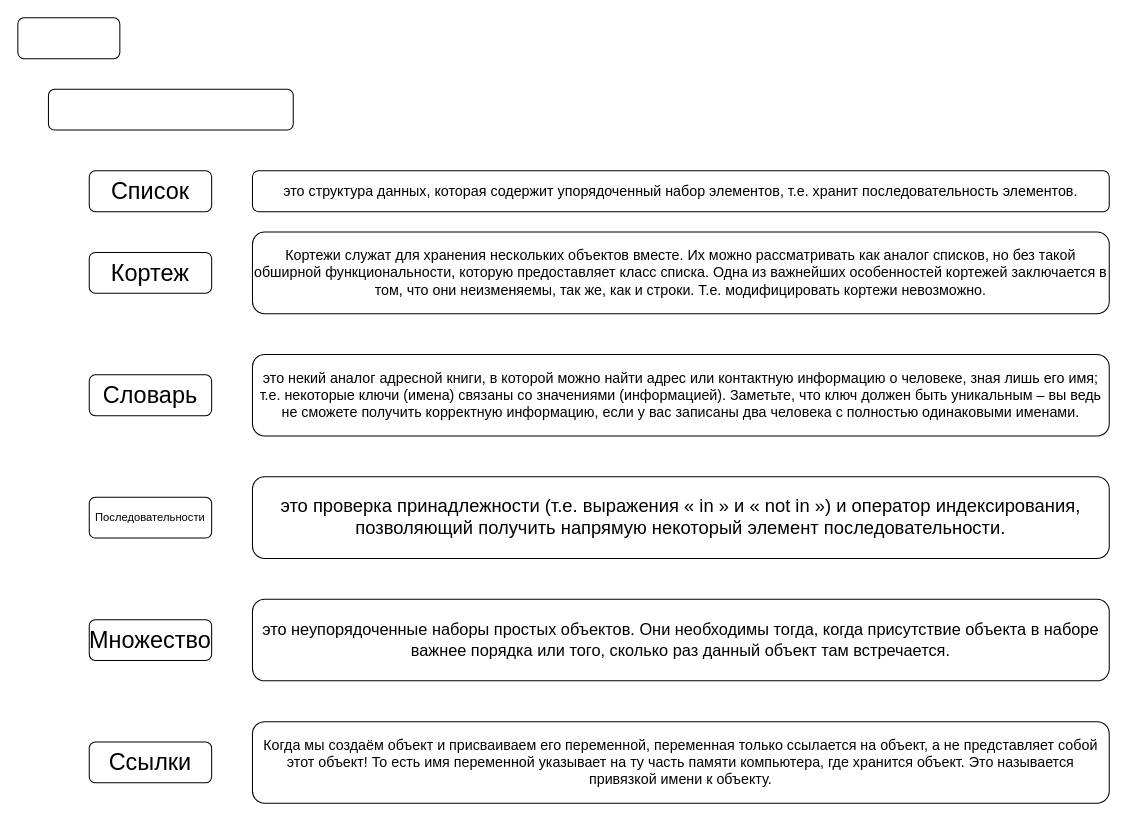
Image size: 1127x821. Some labels were removed from this diagram. Here are the shapes that lost their labels. From the top down, the centre of each, then its label:
[68,38]: python
[170,109]: Структуры данных
